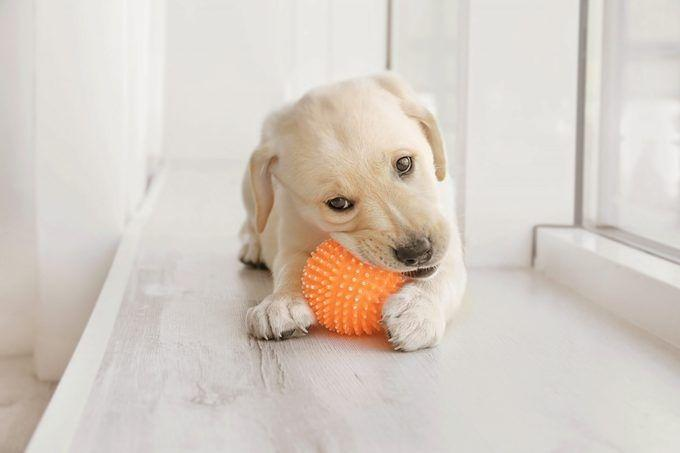puppy-dog: (230, 72, 466, 355)
